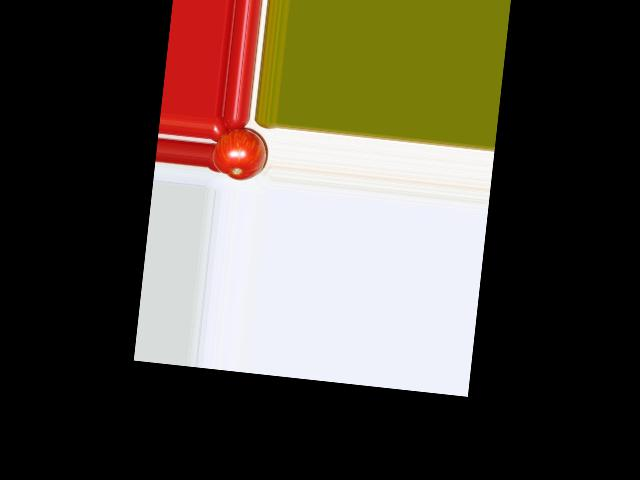tomato: (210, 125, 269, 183)
